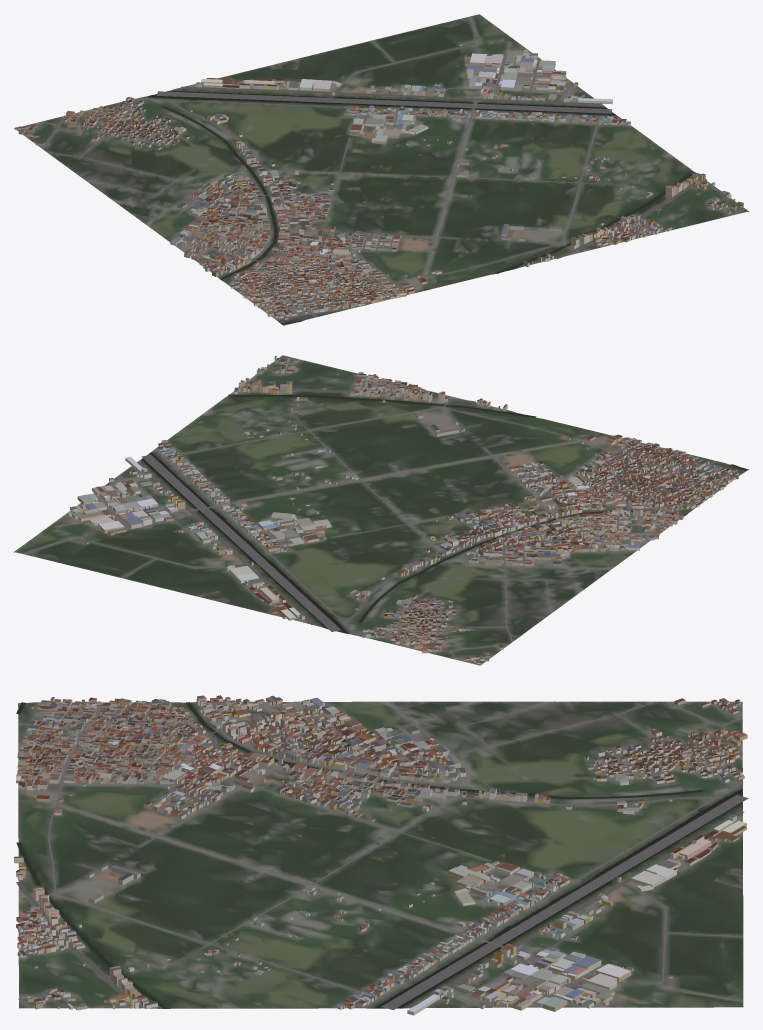
3 views of the same model, one above another, from view 1: azimuth 30°, elevation 25°; view 2: azimuth 150°, elevation 25°; view 3: azimuth 270°, elevation 25° (orthographic). The views are drawn at different scales.
Visible parts, largest first — view 1: ground, buildings, roads, water; view 2: ground, buildings, roads, water; view 3: ground, buildings, roads, water.
Part boxes in pixels (x1=…): ground: x1=14, y1=14, x2=748, y2=325; buildings: x1=15, y1=43, x2=743, y2=319; roads: x1=27, y1=16, x2=744, y2=319; water: x1=147, y1=91, x2=695, y2=324; ground: x1=14, y1=355, x2=748, y2=665; buildings: x1=67, y1=356, x2=738, y2=664; roads: x1=22, y1=357, x2=740, y2=659; water: x1=141, y1=394, x2=747, y2=633; ground: x1=18, y1=701, x2=743, y2=1008; buildings: x1=14, y1=695, x2=747, y2=1015; roads: x1=16, y1=701, x2=744, y2=1008; water: x1=16, y1=702, x2=748, y2=1010.
Size of the model in its own units: 1447 by 30.58 by 1422.
